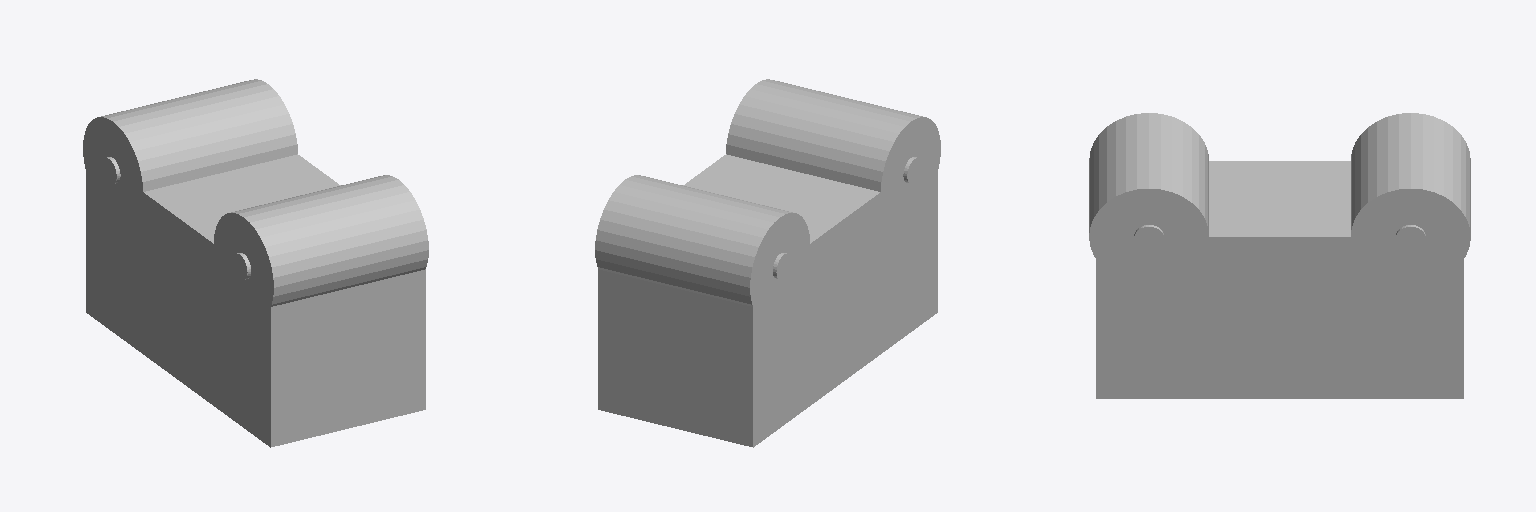
Rendered from body_palm_lpinvrpin.obj.
The picture shows the model from 3 angles: view 1: azimuth 30°, elevation 25°; view 2: azimuth 150°, elevation 25°; view 3: azimuth 270°, elevation 25°; orthographic projection.
Parts seen in each view (by area): view 1: body_palm_Cube.574, body_palm_lpinvrpin_Cylinder.089, rpin_Cylinder.090; view 2: body_palm_Cube.574, rpin_Cylinder.090, body_palm_lpinvrpin_Cylinder.089; view 3: body_palm_Cube.574, rpin_Cylinder.090, body_palm_lpinvrpin_Cylinder.089.
Boxes of the visible parts, x1=… form: body_palm_Cube.574: x1=86, y1=151, x2=425, y2=447; body_palm_lpinvrpin_Cylinder.089: x1=214, y1=175, x2=428, y2=313; rpin_Cylinder.090: x1=83, y1=79, x2=297, y2=221; body_palm_Cube.574: x1=598, y1=151, x2=937, y2=447; rpin_Cylinder.090: x1=595, y1=175, x2=809, y2=318; body_palm_lpinvrpin_Cylinder.089: x1=726, y1=79, x2=940, y2=222; body_palm_Cube.574: x1=1096, y1=161, x2=1463, y2=398; rpin_Cylinder.090: x1=1351, y1=113, x2=1470, y2=279; body_palm_lpinvrpin_Cylinder.089: x1=1089, y1=113, x2=1208, y2=280.
Size of the model in its own units: 0.336 by 0.4155 by 0.6826.